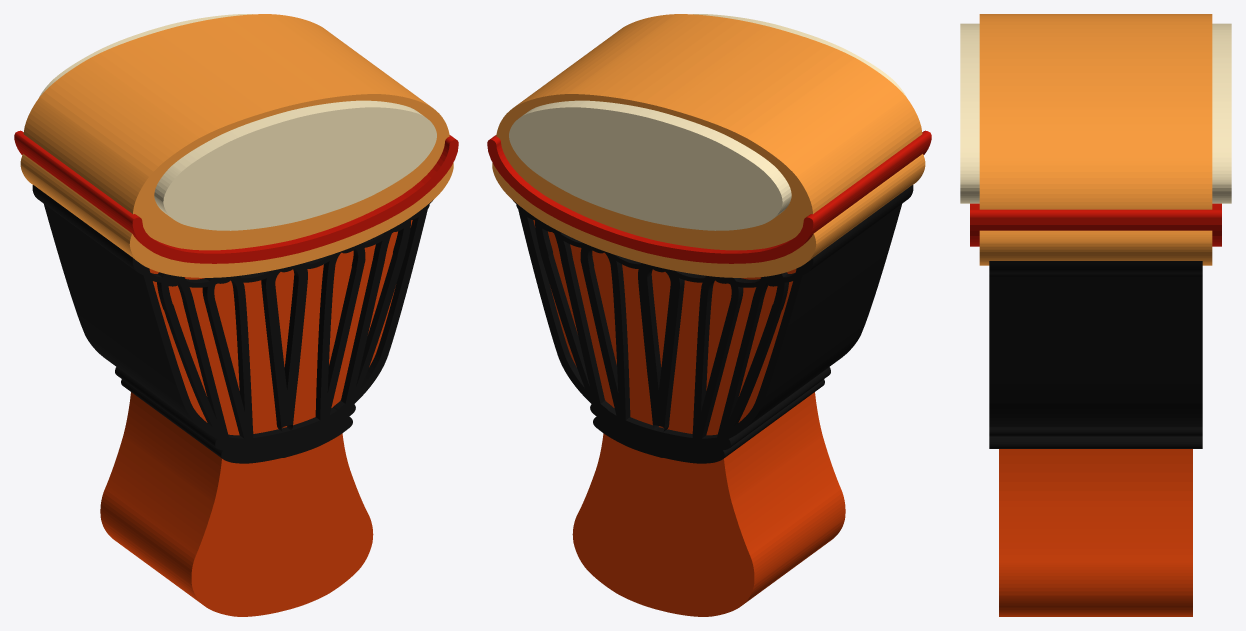
3 views of the same model, side by side, from view 1: azimuth 30°, elevation 25°; view 2: azimuth 150°, elevation 25°; view 3: azimuth 270°, elevation 25° (orthographic). The views are drawn at different scales.
Visible parts, largest first — view 1: U+1FA98_layer02_obj00, U+1FA98_layer00_obj00, U+1FA98_layer04_obj00, U+1FA98_layer00_obj01, U+1FA98_layer01_obj14, U+1FA98_layer02_obj01, U+1FA98_layer03_obj00, U+1FA98_layer01_obj10, U+1FA98_layer01_obj05, U+1FA98_layer01_obj25, U+1FA98_layer01_obj02, U+1FA98_layer01_obj20 (+4 smaller); view 2: U+1FA98_layer02_obj00, U+1FA98_layer00_obj00, U+1FA98_layer04_obj00, U+1FA98_layer00_obj01, U+1FA98_layer01_obj14, U+1FA98_layer02_obj01, U+1FA98_layer03_obj00, U+1FA98_layer01_obj10, U+1FA98_layer01_obj05, U+1FA98_layer01_obj25, U+1FA98_layer01_obj02, U+1FA98_layer01_obj20 (+4 smaller); view 3: U+1FA98_layer02_obj00, U+1FA98_layer00_obj00, U+1FA98_layer01_obj24, U+1FA98_layer02_obj01, U+1FA98_layer04_obj00, U+1FA98_layer03_obj00, U+1FA98_layer01_obj12, U+1FA98_layer01_obj18, U+1FA98_layer01_obj27, U+1FA98_layer01_obj06.
Boxes of the visible parts, left/top/right/bottom form: U+1FA98_layer02_obj00: left=23, top=14, right=449, bottom=250; U+1FA98_layer00_obj00: left=100, top=357, right=373, bottom=616; U+1FA98_layer04_obj00: left=39, top=14, right=436, bottom=230; U+1FA98_layer00_obj01: left=149, top=220, right=412, bottom=432; U+1FA98_layer01_obj14: left=44, top=204, right=227, bottom=441; U+1FA98_layer02_obj01: left=20, top=142, right=453, bottom=277; U+1FA98_layer03_obj00: left=14, top=130, right=458, bottom=263; U+1FA98_layer01_obj10: left=261, top=263, right=307, bottom=431; U+1FA98_layer01_obj05: left=340, top=218, right=410, bottom=416; U+1FA98_layer01_obj25: left=315, top=244, right=365, bottom=423; U+1FA98_layer01_obj02: left=157, top=272, right=230, bottom=443; U+1FA98_layer01_obj20: left=202, top=276, right=253, bottom=441; U+1FA98_layer02_obj00: left=496, top=14, right=922, bottom=250; U+1FA98_layer00_obj00: left=572, top=357, right=845, bottom=616; U+1FA98_layer04_obj00: left=509, top=14, right=906, bottom=230; U+1FA98_layer00_obj01: left=533, top=220, right=796, bottom=432; U+1FA98_layer01_obj14: left=718, top=204, right=901, bottom=441; U+1FA98_layer02_obj01: left=492, top=142, right=925, bottom=277; U+1FA98_layer03_obj00: left=487, top=130, right=931, bottom=263; U+1FA98_layer01_obj10: left=638, top=263, right=684, bottom=431; U+1FA98_layer01_obj05: left=535, top=218, right=605, bottom=416; U+1FA98_layer01_obj25: left=580, top=243, right=630, bottom=423; U+1FA98_layer01_obj02: left=715, top=272, right=788, bottom=443; U+1FA98_layer01_obj20: left=692, top=276, right=743, bottom=441; U+1FA98_layer02_obj00: left=979, top=14, right=1212, bottom=209; U+1FA98_layer00_obj00: left=999, top=449, right=1192, bottom=616; U+1FA98_layer01_obj24: left=989, top=277, right=1202, bottom=427; U+1FA98_layer02_obj01: left=979, top=230, right=1212, bottom=265; U+1FA98_layer04_obj00: left=960, top=23, right=1231, bottom=203; U+1FA98_layer03_obj00: left=970, top=203, right=1221, bottom=246; U+1FA98_layer01_obj12: left=989, top=261, right=1202, bottom=273; U+1FA98_layer01_obj18: left=989, top=436, right=1202, bottom=448; U+1FA98_layer01_obj27: left=989, top=427, right=1202, bottom=436; U+1FA98_layer01_obj06: left=989, top=273, right=1202, bottom=277.
Bounding box in the file's own units: 0.2069 × 0.3107 × 0.14.
